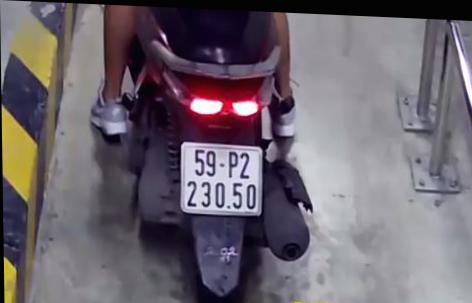License_Plate: (173, 139, 270, 219)
